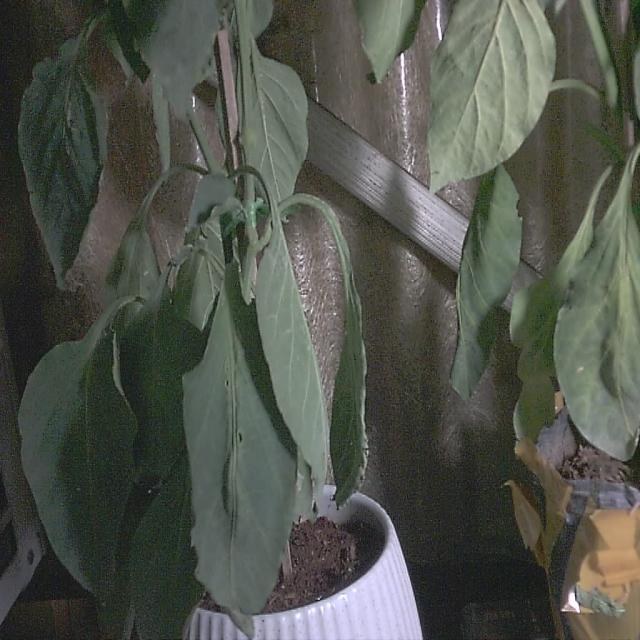Leaf: (178, 298, 300, 632), (19, 322, 137, 605), (555, 147, 639, 459), (428, 0, 555, 191), (19, 40, 106, 286), (450, 166, 521, 400), (235, 52, 308, 218)
